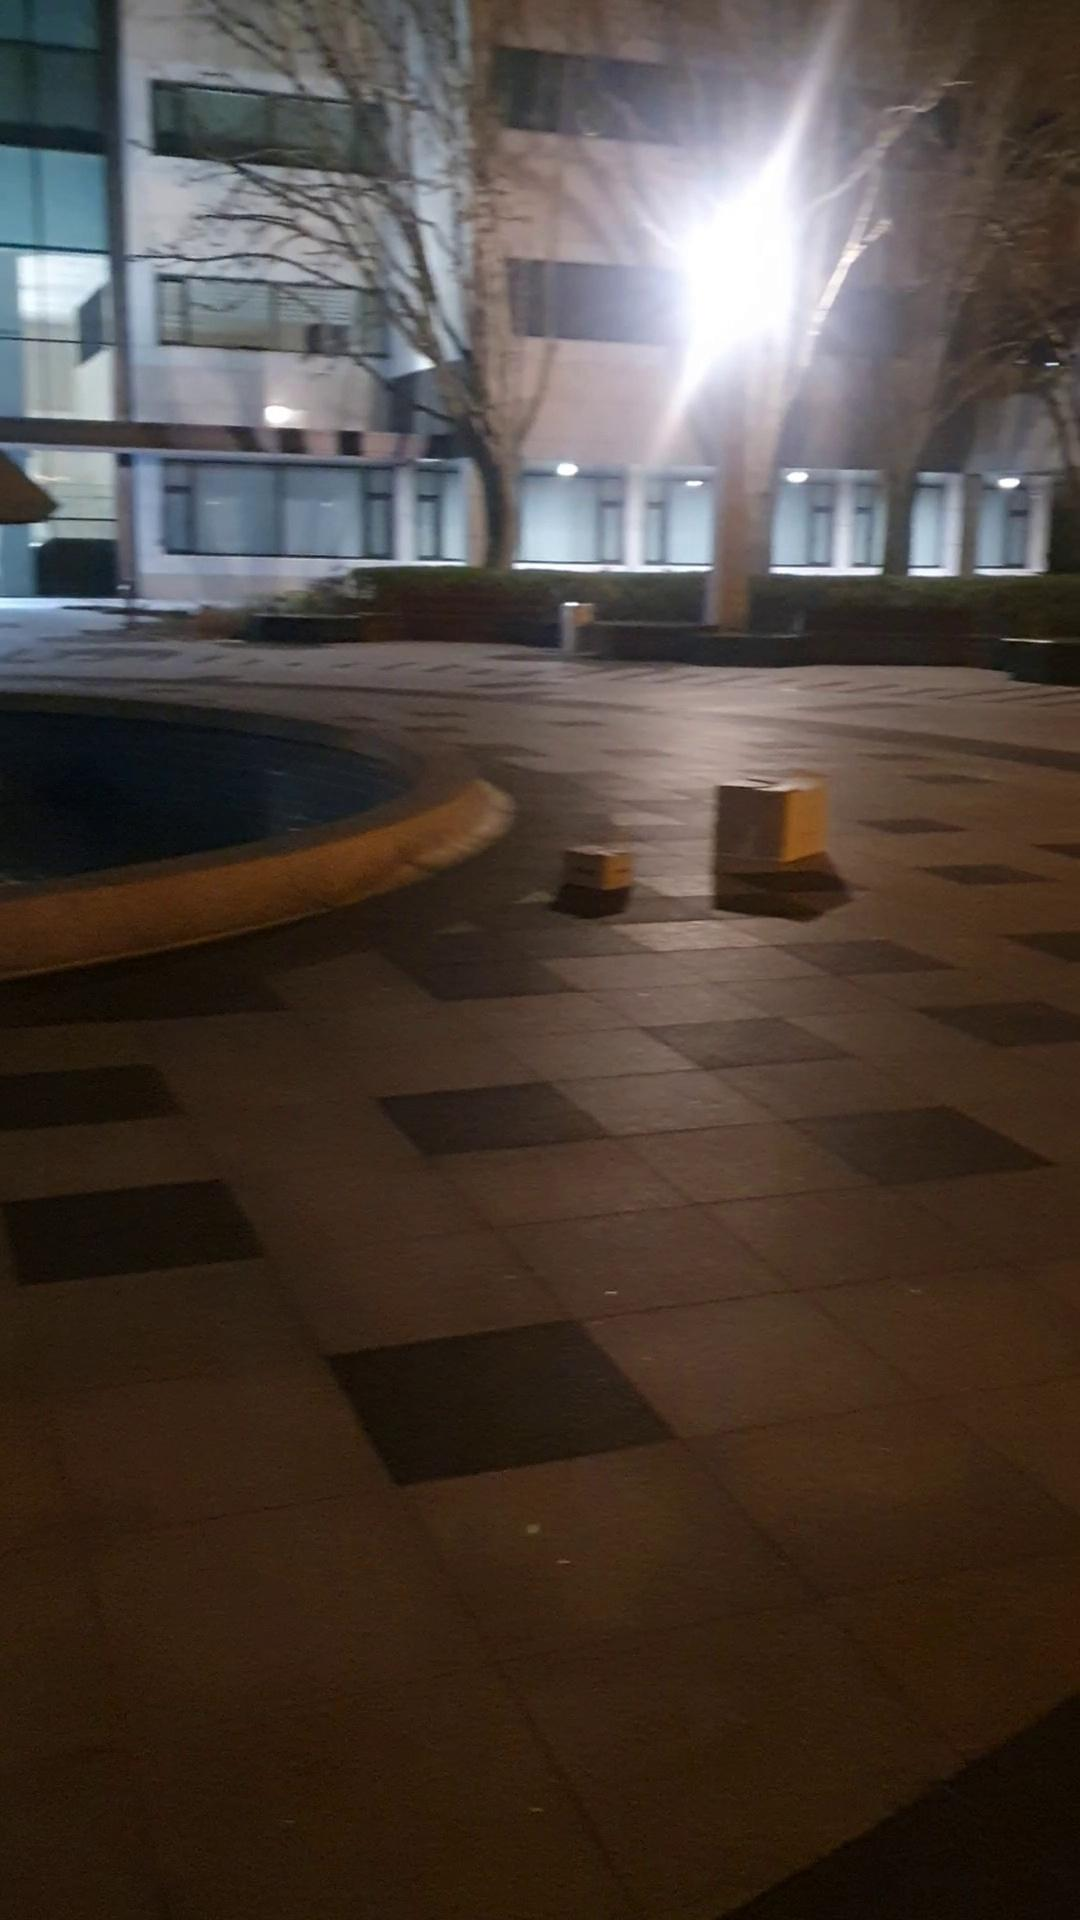Box: (705, 770, 825, 880), (560, 837, 638, 899)
